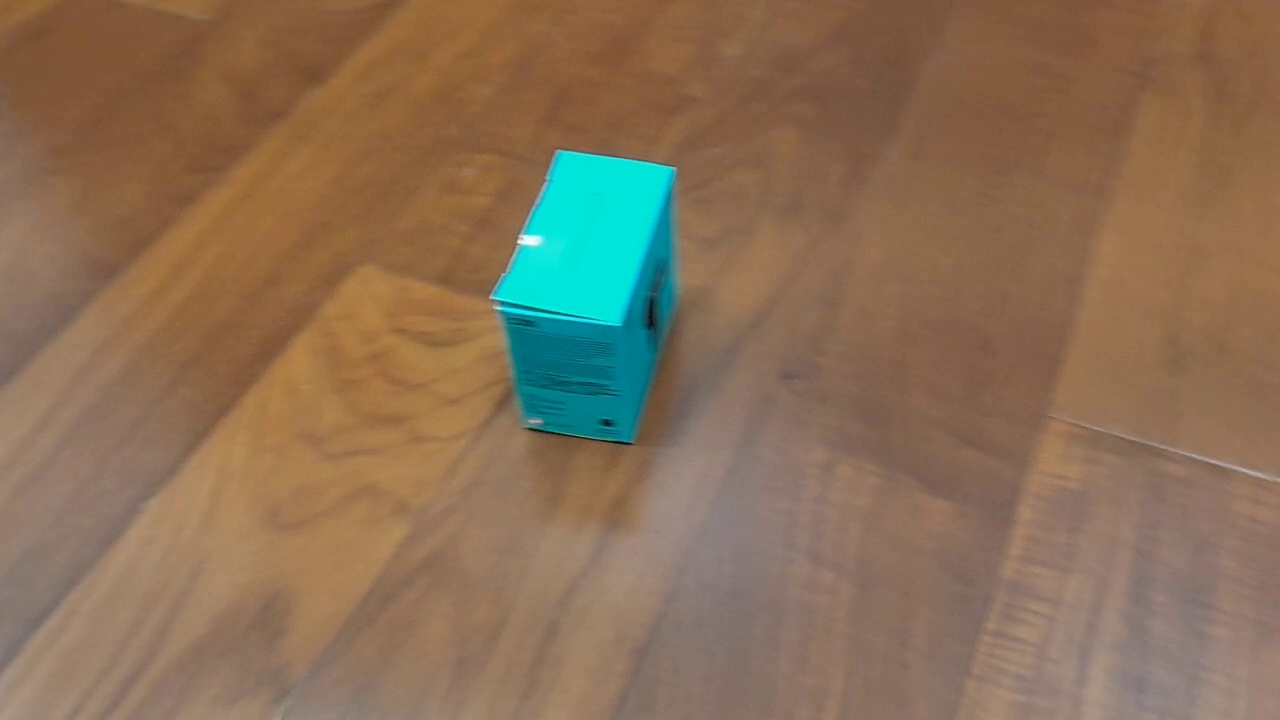webcam: (487, 146, 681, 447)
